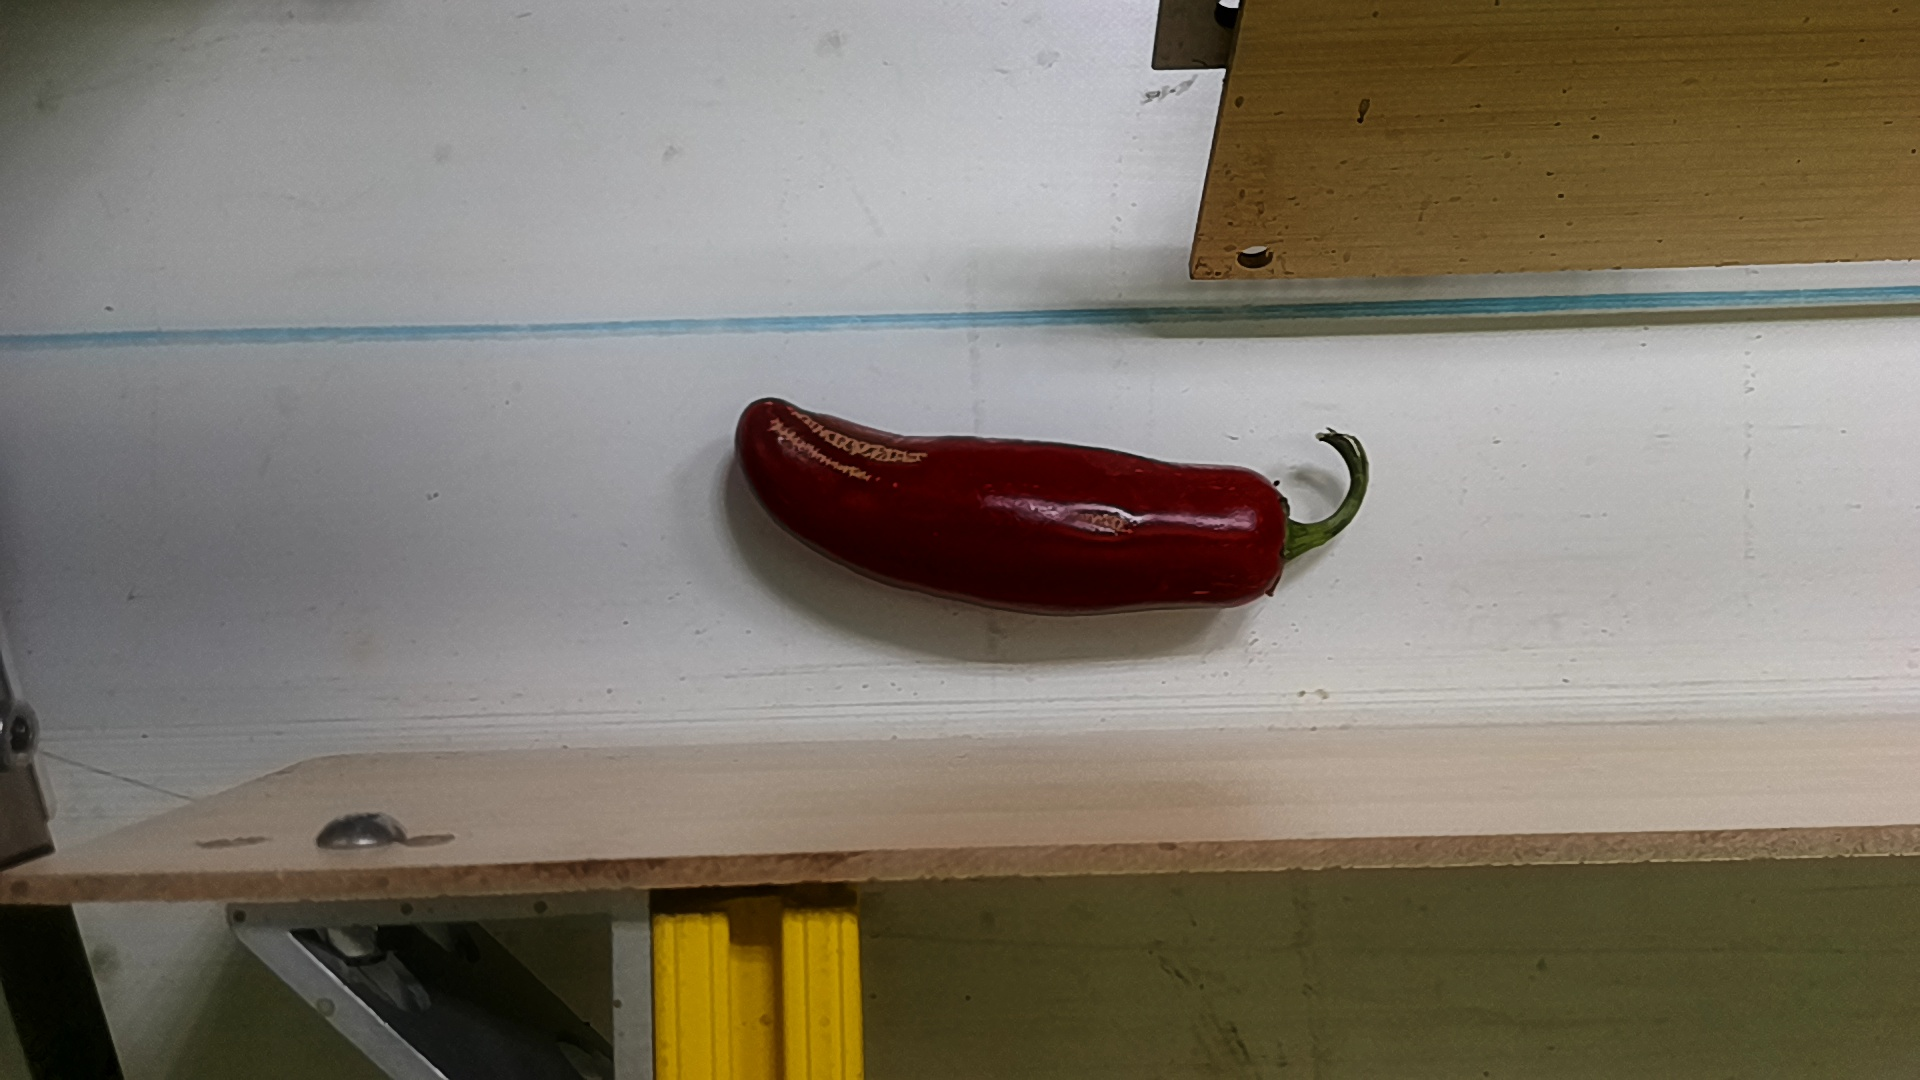Cut Point: (1232, 462, 1312, 613)
